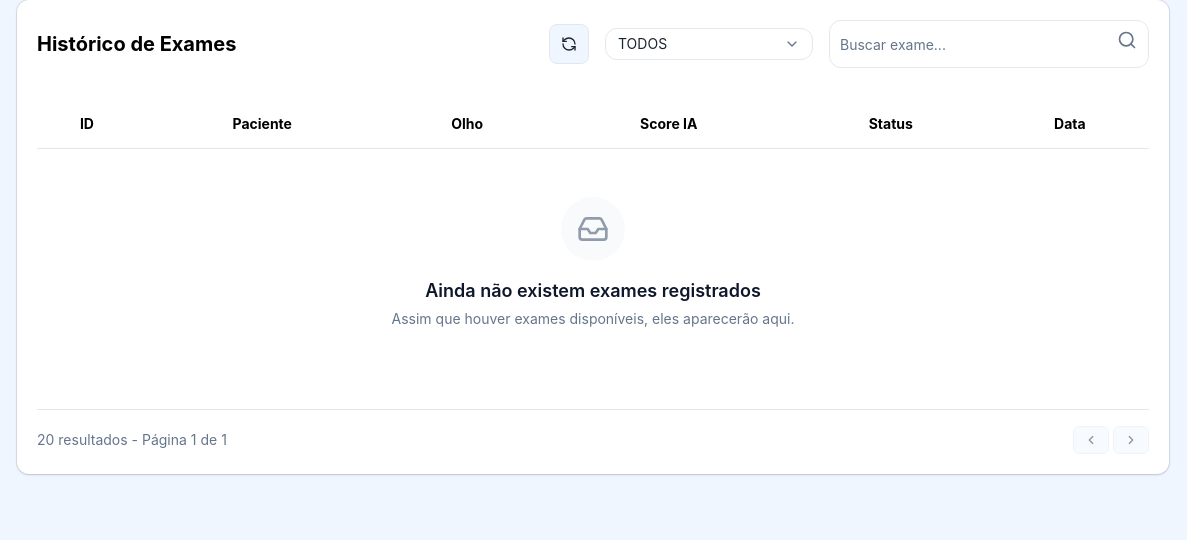
Test case: CardHistorico › deve limpar os filtros ao clicar em limpar filtros
In the field with placeholder "Buscar exame...": point(989, 44) 829,20 -> 1149,68, type "Paciente Inexistente"
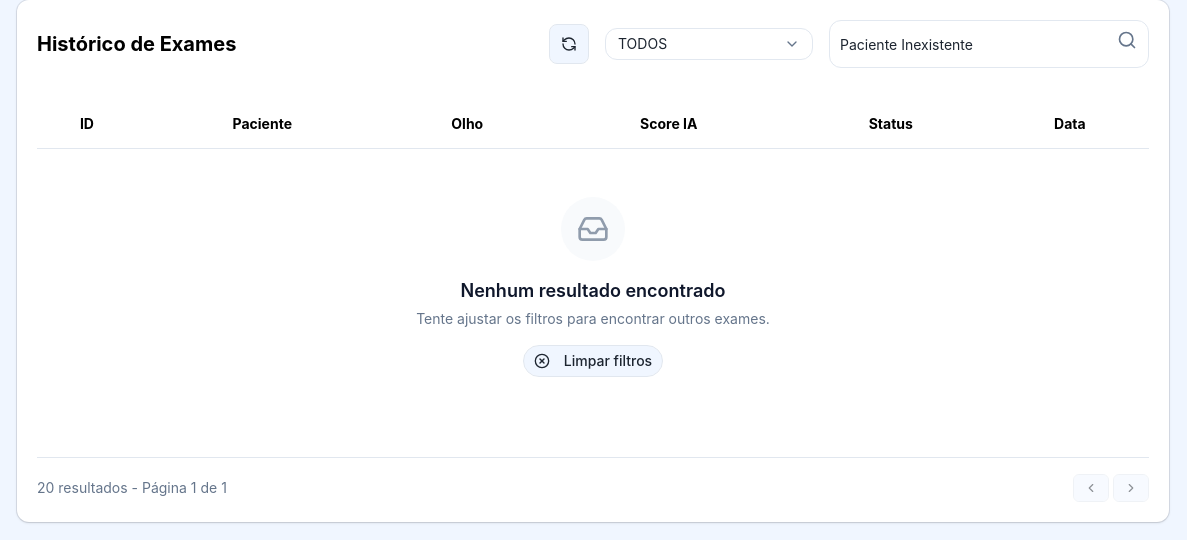
Expected: the text "Nenhum resultado encontrado" is shown, 460,280 -> 725,300
Click the button "Limpar filtros": point(593, 360) 523,344 -> 663,376
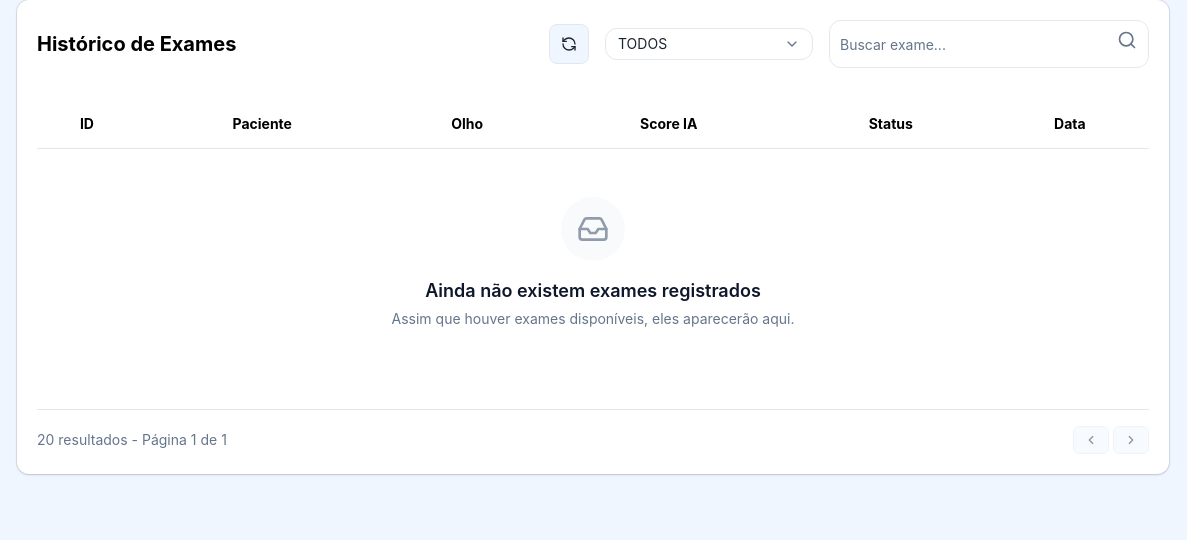
Expected: the field with placeholder "Buscar exame..." is empty, 829,20 -> 1149,68
